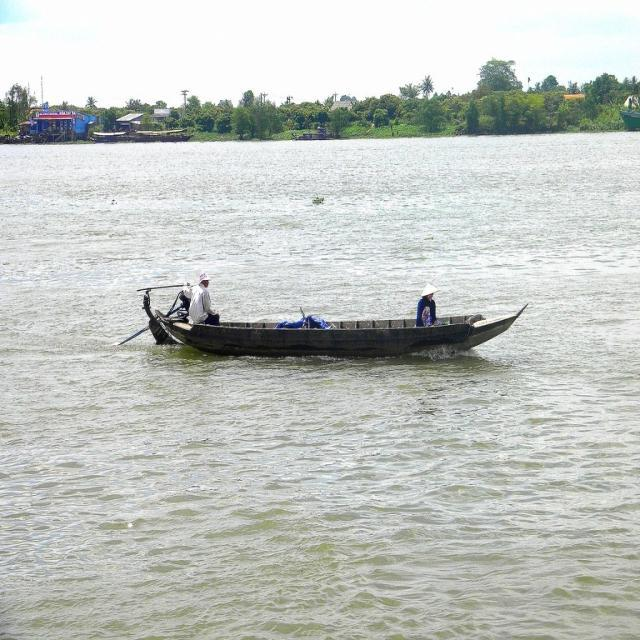boat: (162, 300, 526, 362)
